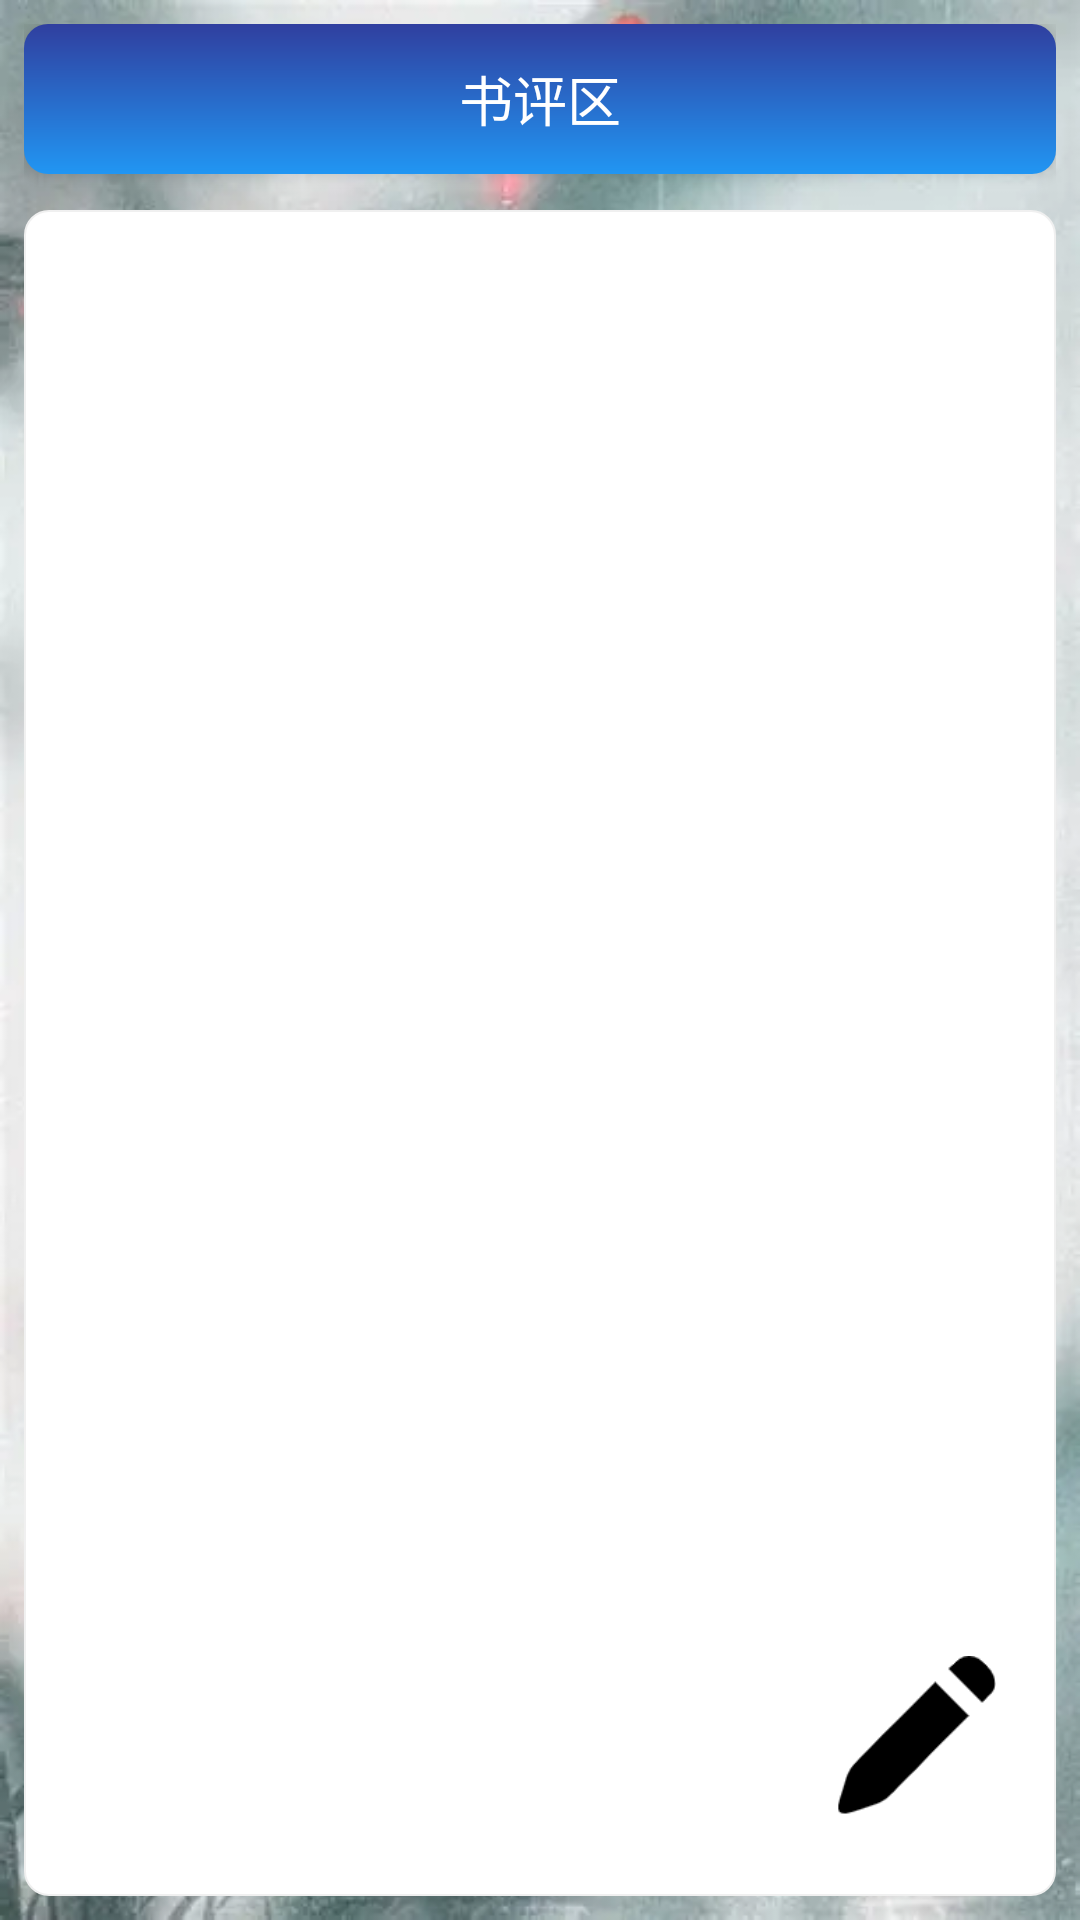

Icons on this 1080 x 1920 Android screen, each with its box as (x1, y1, x2, y2):
pencil: (838, 1656, 996, 1814)
